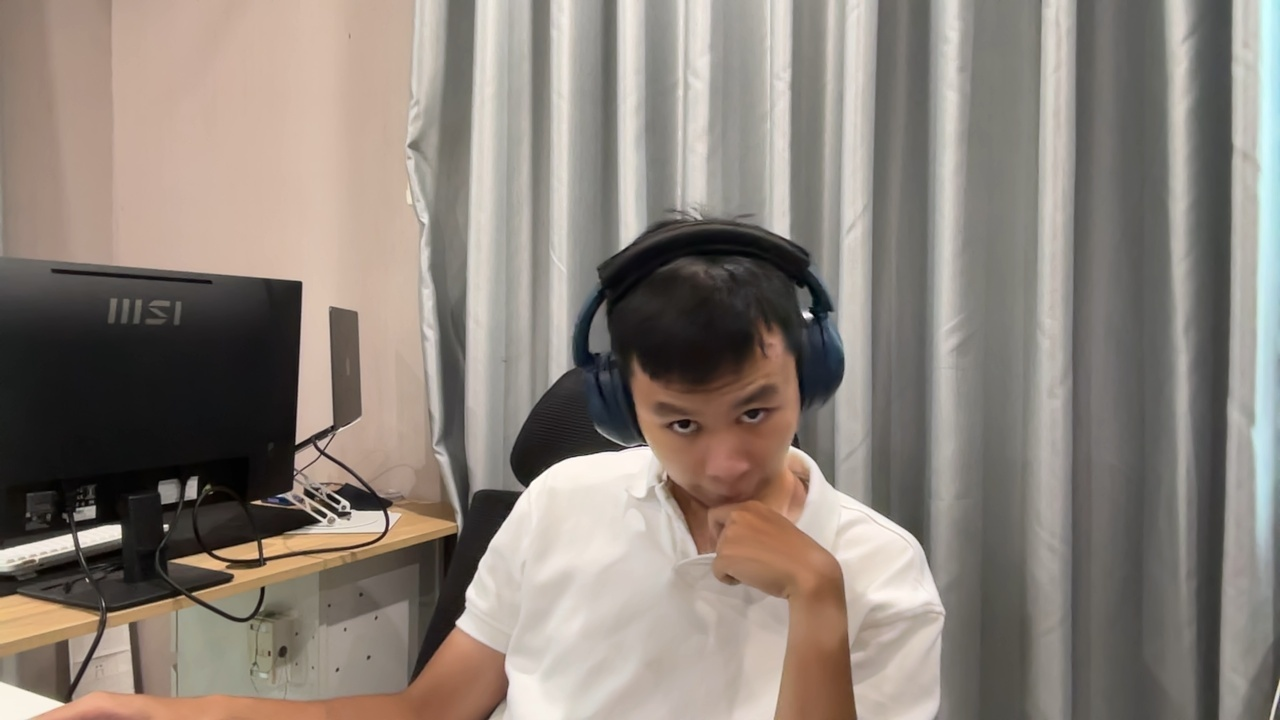over_ear: (502, 209, 847, 491), (578, 210, 846, 432)
